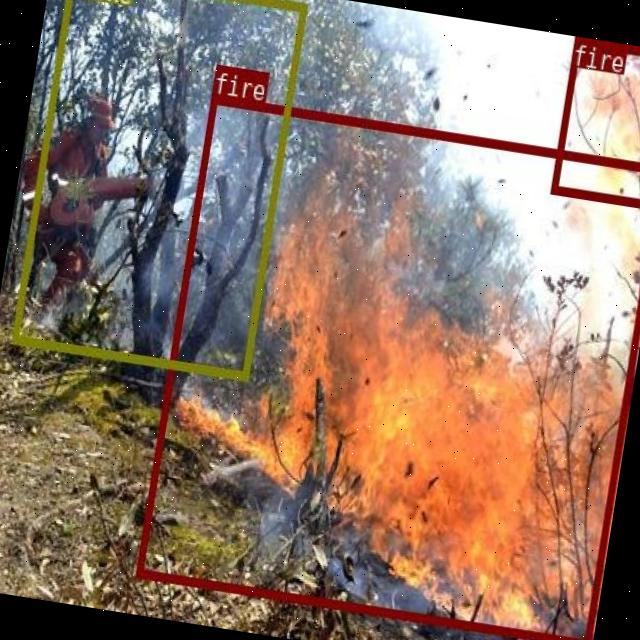fire: (134, 93, 640, 640), (551, 36, 640, 208)
smoke: (11, 0, 307, 379)
